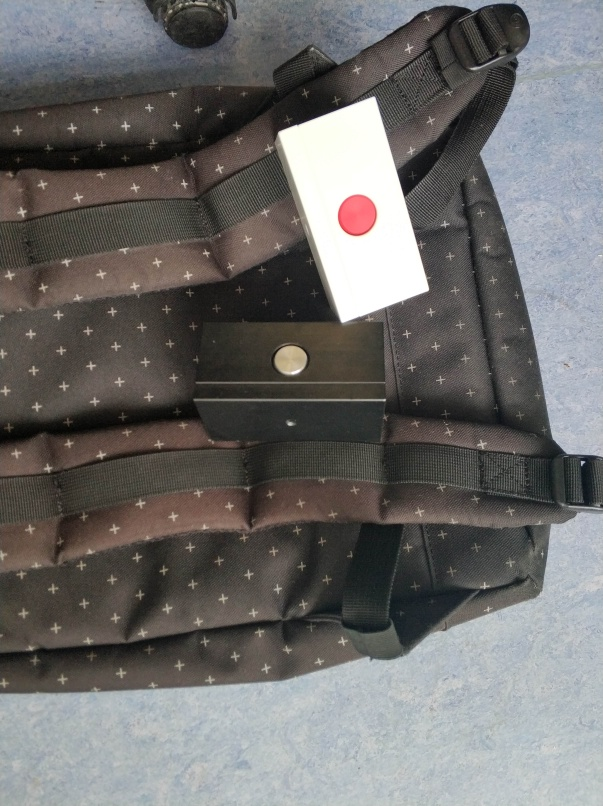black+black+silver: (191, 315, 392, 446)
white+white+red: (271, 93, 436, 327)
